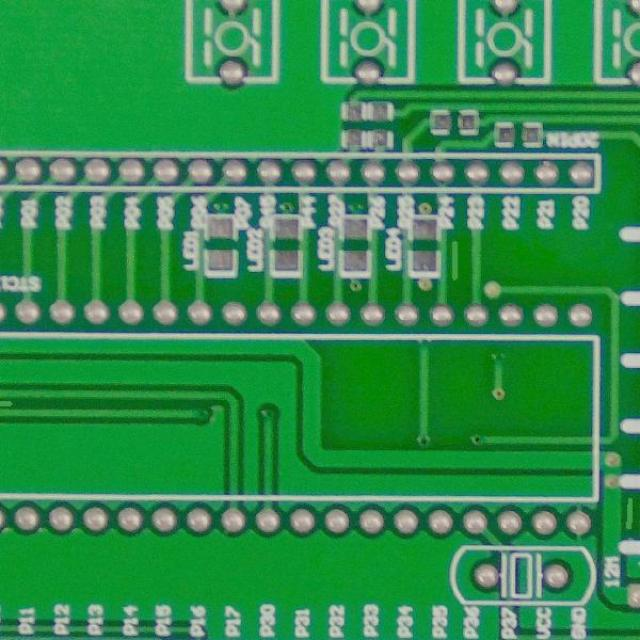Spurious_Cooper: (446, 234, 462, 284), (622, 490, 640, 532), (0, 398, 18, 411)
